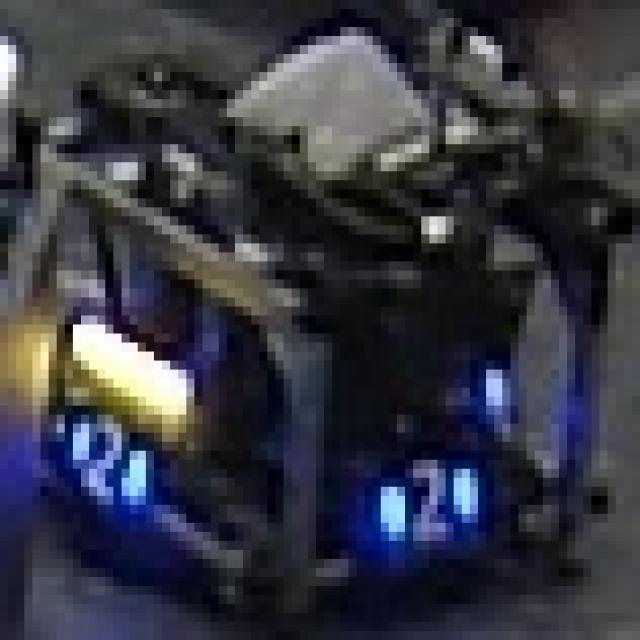B2: (365, 442, 486, 550), (57, 406, 154, 522)
